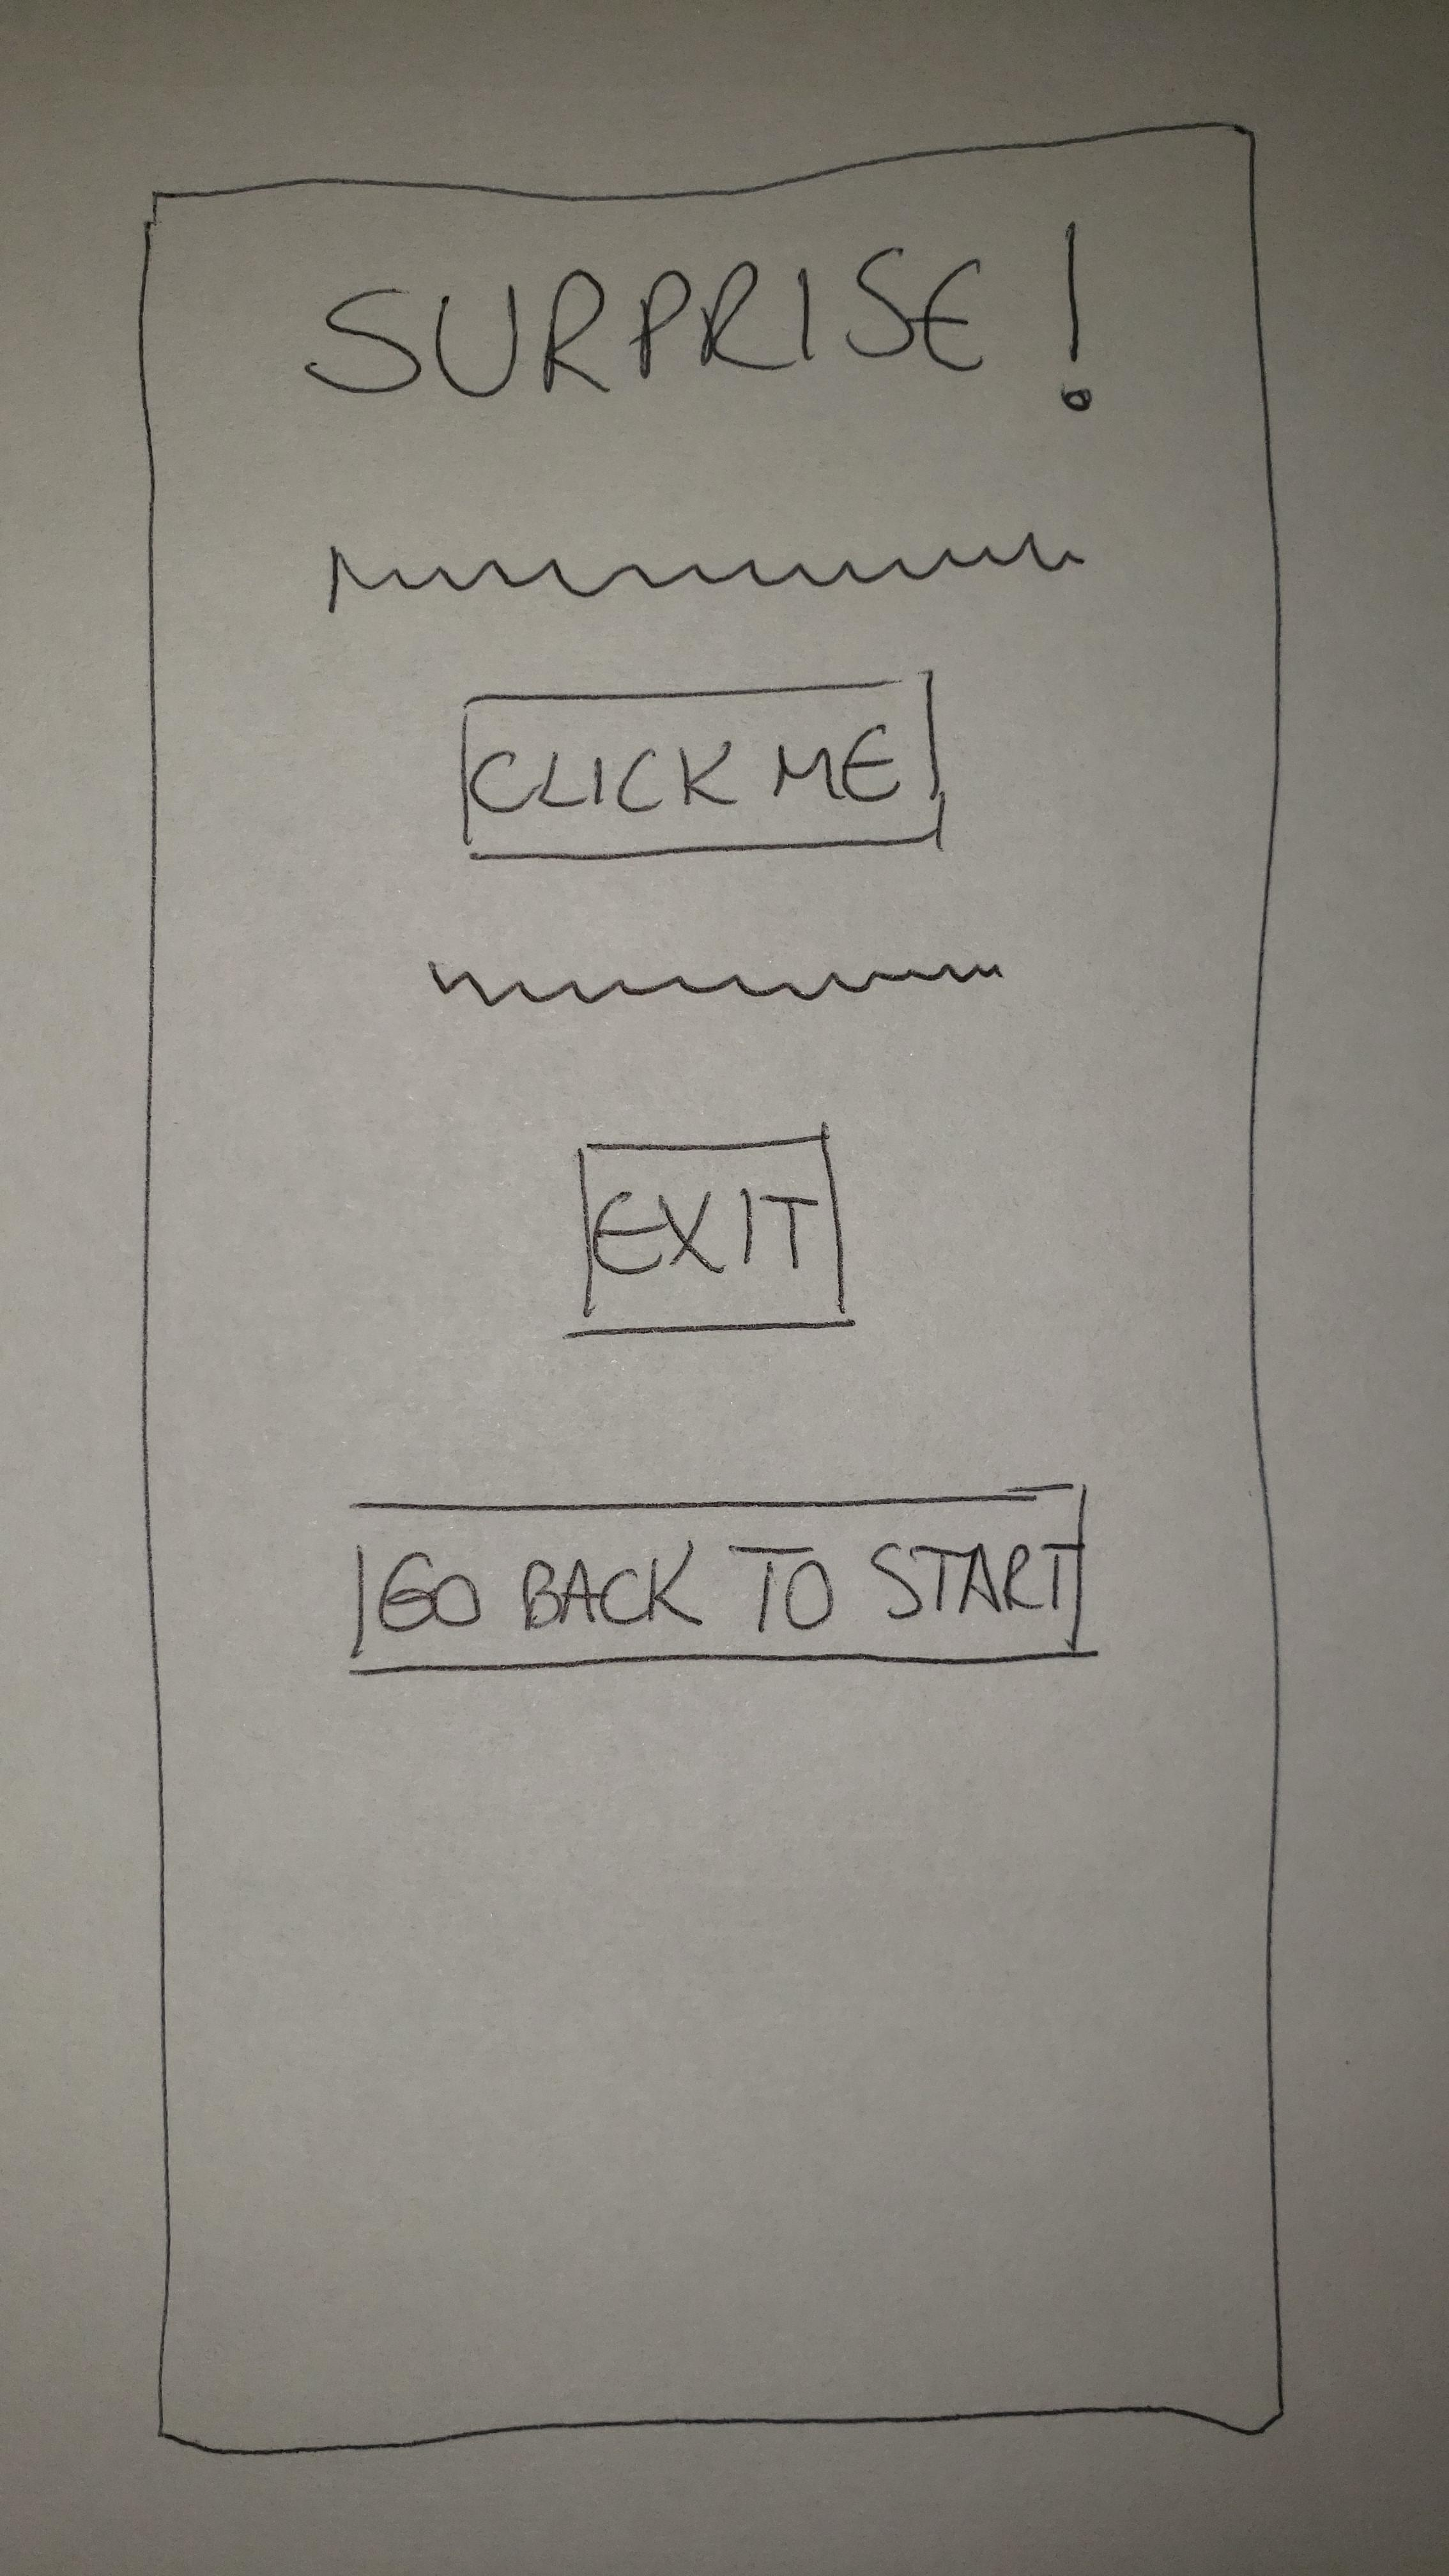Button: (350, 1484, 1093, 1675), (458, 669, 945, 863), (564, 1131, 847, 1341)
Label: (303, 219, 1093, 409), (327, 531, 1088, 612), (430, 962, 1007, 1012)
Screen: (134, 122, 1288, 2454)
